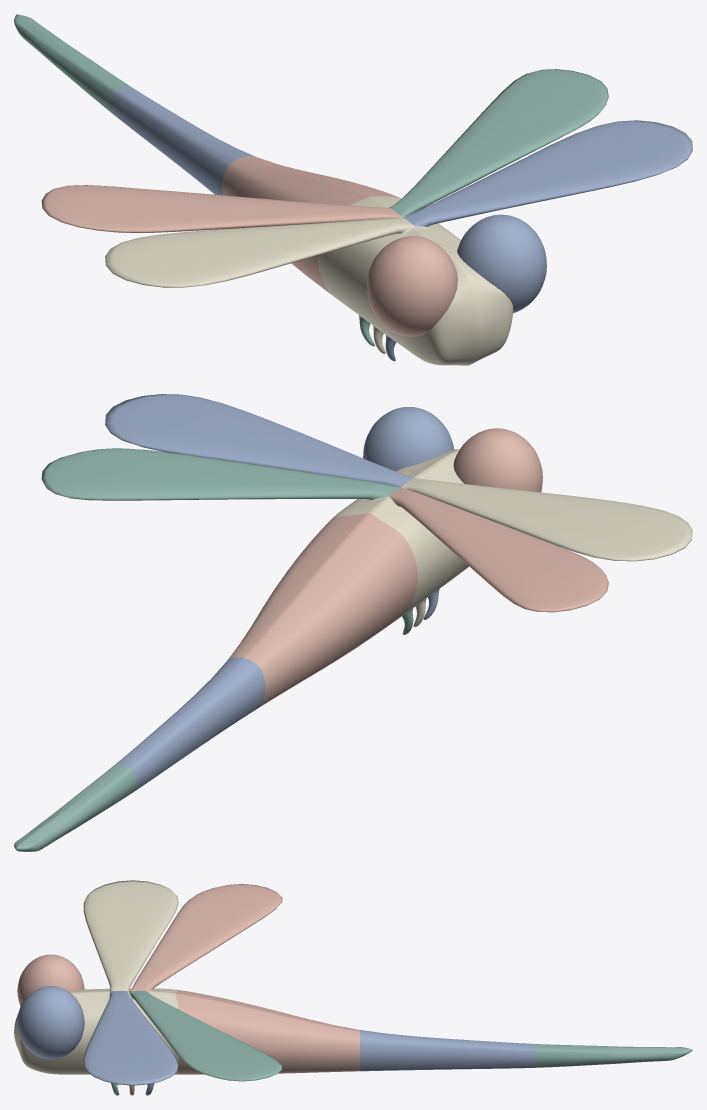
The model's file is bones-dragonfly.glb.
The picture shows the model from 3 angles, top to bottom: view 1: azimuth 30°, elevation 25°; view 2: azimuth 150°, elevation 25°; view 3: azimuth 270°, elevation 25°; orthographic projection. The views are drawn at different scales.
Parts seen in each view (by area): view 1: ailes_1_L_static, ailes_1_R_static, ailes_2_L_static, ailes_2_R_static, oeil_R_static, TETE_static, oeil_L_static, Corps_3_static, Corps_2_static, Corps_1_static, Corps_4_static; view 2: Corps_2_static, ailes_2_L_static, ailes_1_L_static, ailes_1_R_static, ailes_2_R_static, Corps_3_static, Corps_1_static, oeil_R_static, oeil_L_static, Corps_4_static, TETE_static; view 3: Corps_2_static, ailes_1_R_static, ailes_2_R_static, ailes_1_L_static, Corps_3_static, ailes_2_L_static, oeil_L_static, Corps_4_static, oeil_R_static, TETE_static, Corps_1_static.
Boxes of the visible parts, x1=… form: ailes_1_L_static: x1=403, y1=120, x2=692, y2=226; ailes_1_R_static: x1=105, y1=217, x2=413, y2=287; ailes_2_L_static: x1=389, y1=69, x2=608, y2=216; ailes_2_R_static: x1=41, y1=185, x2=401, y2=232; oeil_R_static: x1=367, y1=236, x2=457, y2=336; TETE_static: x1=387, y1=238, x2=513, y2=365; oeil_L_static: x1=457, y1=214, x2=546, y2=313; Corps_3_static: x1=110, y1=87, x2=255, y2=195; Corps_2_static: x1=222, y1=156, x2=400, y2=295; Corps_1_static: x1=317, y1=196, x2=460, y2=341; Corps_4_static: x1=14, y1=14, x2=130, y2=114; Corps_2_static: x1=228, y1=513, x2=417, y2=707; ailes_2_L_static: x1=41, y1=448, x2=400, y2=500; ailes_1_L_static: x1=105, y1=394, x2=413, y2=486; ailes_1_R_static: x1=402, y1=478, x2=692, y2=561; ailes_2_R_static: x1=389, y1=487, x2=608, y2=612; Corps_3_static: x1=115, y1=657, x2=265, y2=791; Corps_1_static: x1=331, y1=468, x2=468, y2=615; oeil_R_static: x1=453, y1=428, x2=542, y2=492; oeil_L_static: x1=363, y1=407, x2=454, y2=471; Corps_4_static: x1=14, y1=764, x2=136, y2=851; TETE_static: x1=396, y1=449, x2=468, y2=568; Corps_2_static: x1=175, y1=990, x2=359, y2=1074; ailes_1_R_static: x1=83, y1=880, x2=178, y2=991; ailes_2_R_static: x1=129, y1=884, x2=282, y2=991; ailes_1_L_static: x1=83, y1=991, x2=178, y2=1085; Corps_3_static: x1=360, y1=1030, x2=535, y2=1071; ailes_2_L_static: x1=129, y1=991, x2=282, y2=1081; oeil_L_static: x1=17, y1=986, x2=84, y2=1059; Corps_4_static: x1=536, y1=1044, x2=692, y2=1067; oeil_R_static: x1=17, y1=954, x2=84, y2=1005; TETE_static: x1=14, y1=989, x2=89, y2=1074; Corps_1_static: x1=86, y1=988, x2=178, y2=1074.
Size of the model in its own units: 1.71 by 0.4583 by 2.4.
